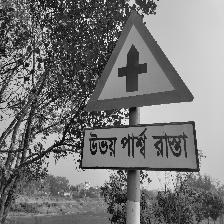Crossroad: (78, 4, 200, 177)
